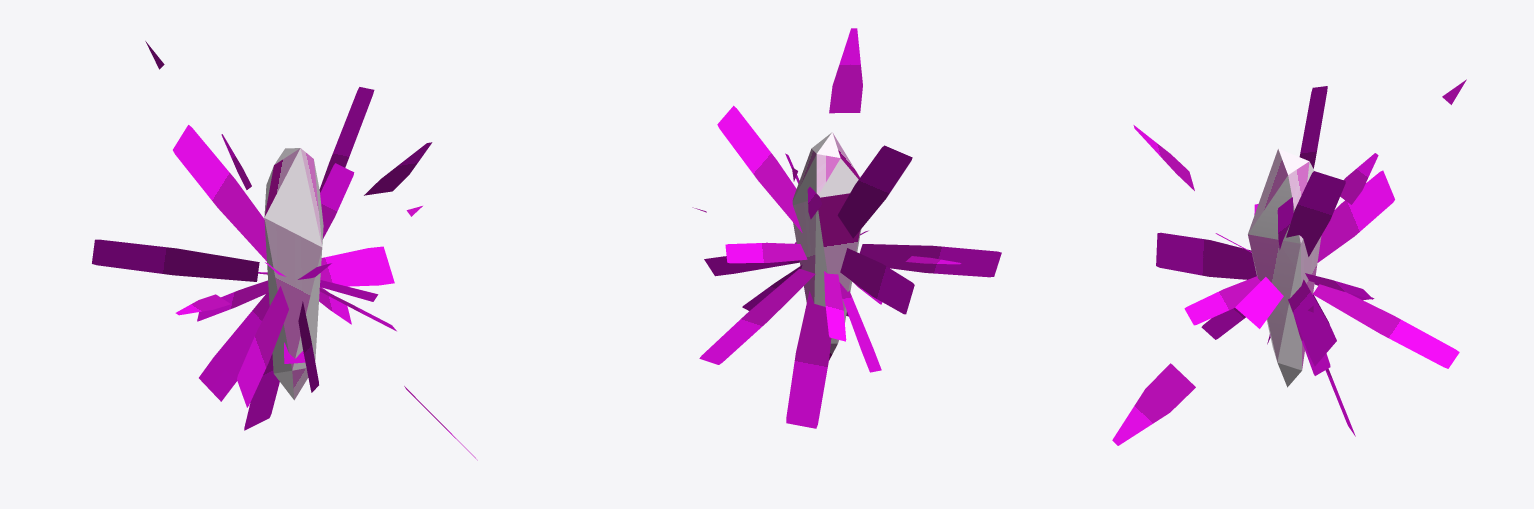
The model's file is Crystal+Ray.fbx.
3 views of the same model, side by side, from view 1: azimuth 30°, elevation 25°; view 2: azimuth 150°, elevation 25°; view 3: azimuth 270°, elevation 25° (orthographic). The views are drawn at different scales.
Visible parts, largest first — view 1: SubModel1.004, SubModel0.007; view 2: SubModel1.004, SubModel0.007; view 3: SubModel1.004, SubModel0.007.
Part boxes in pixels (bbox=[...]): SubModel1.004: bbox=[92, 41, 477, 460]; SubModel0.007: bbox=[264, 148, 323, 400]; SubModel1.004: bbox=[692, 28, 1001, 428]; SubModel0.007: bbox=[792, 132, 861, 360]; SubModel1.004: bbox=[1112, 79, 1466, 445]; SubModel0.007: bbox=[1248, 148, 1321, 387].
Bounding box in the file's own units: 157 × 156 × 144.
